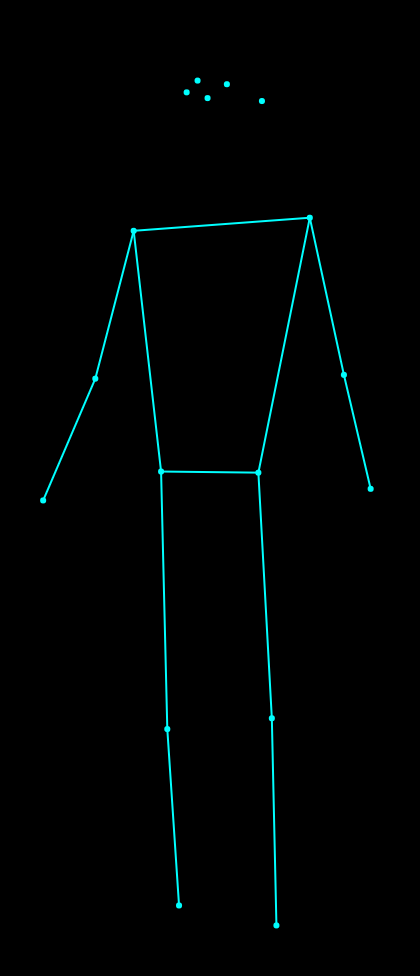mountain: (37, 71, 380, 938)
